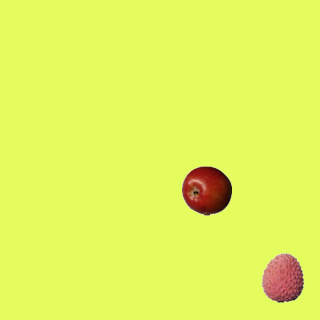Apple Braeburn: (181, 165, 231, 215)
Lychee: (257, 252, 307, 302)
